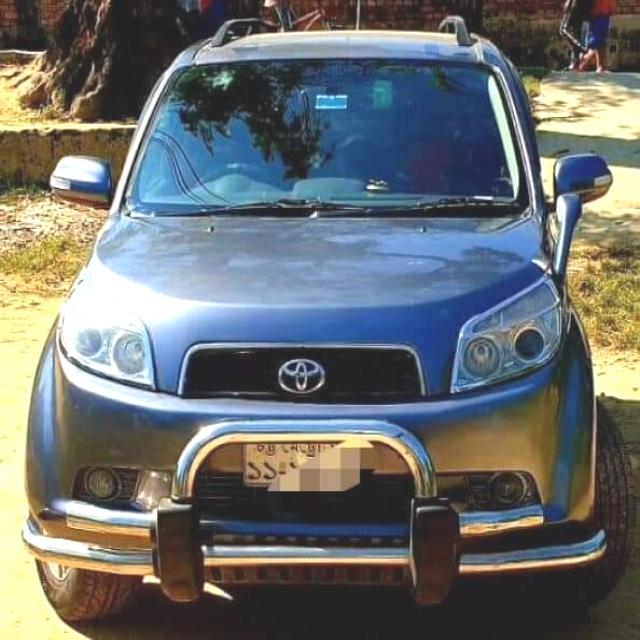blue: (32, 32, 630, 604)
